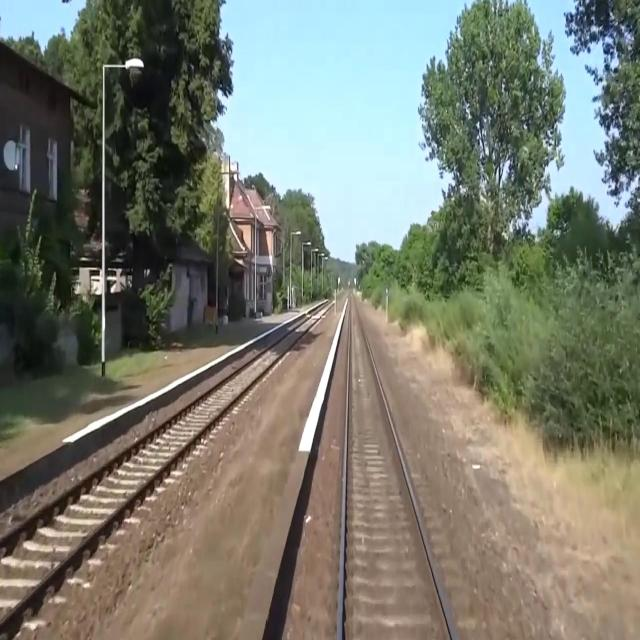rail-track: (0, 302, 331, 618), (342, 296, 454, 639)
